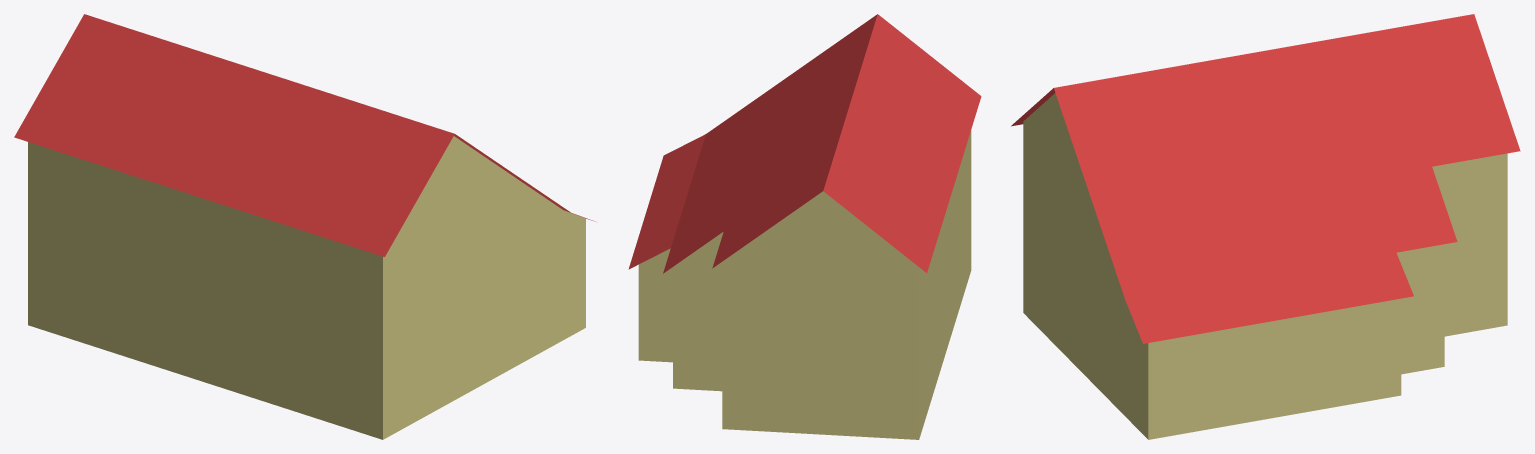
3 renders of one model, left to right at view 1: azimuth 30°, elevation 25°; view 2: azimuth 150°, elevation 25°; view 3: azimuth 270°, elevation 25°, orthographic. The views are drawn at different scales.
Bounding box in the file's own units: 25.19 × 26.02 × 15.01.
